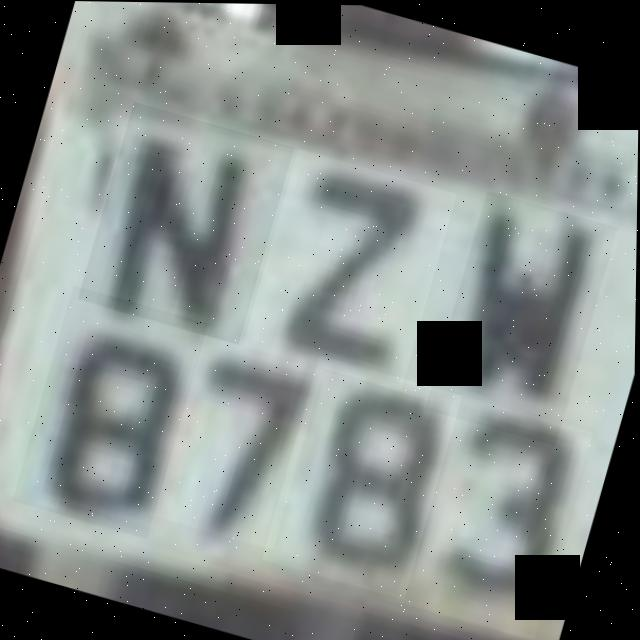3: (396, 391, 594, 639)
7: (151, 332, 325, 549)
8: (13, 284, 209, 539), (263, 353, 463, 598)
N: (78, 100, 295, 344)
W: (425, 188, 618, 445)
Z: (243, 146, 457, 390)
